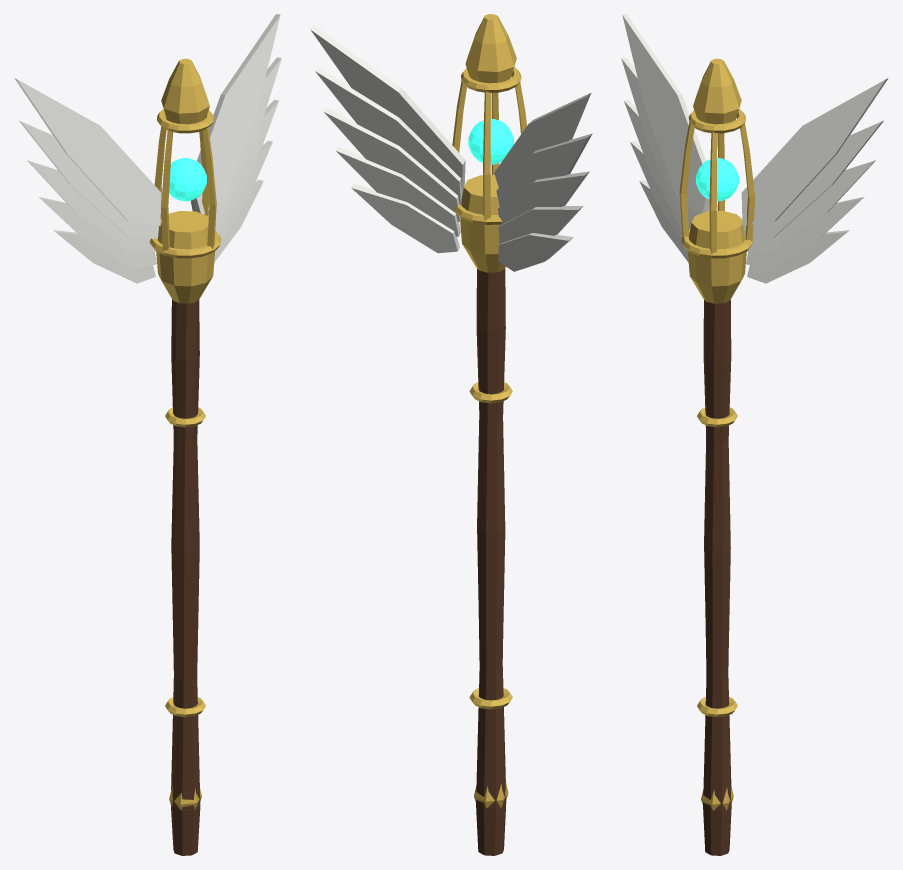
The model's file is staff_wingedmace.glb.
The picture shows the model from 3 angles, left to right: view 1: azimuth 30°, elevation 25°; view 2: azimuth 150°, elevation 25°; view 3: azimuth 330°, elevation 25°; orthographic projection. The views are drawn at different scales.
Visible parts, largest first — view 1: Wm_Shaft, Wm_Wing0_0, Wm_Wing1_0, Wm_Neck, Wm_Wing0_1, Wm_Crown, Wm_Wing0_2, Wm_Wing0_3, Wm_Wing1_1, Wm_Wing0_4, Wm_Gem, Wm_Wing1_2 (+6 smaller); view 2: Wm_Shaft, Wm_Wing1_0, Wm_Wing1_1, Wm_Wing1_2, Wm_Wing0_0, Wm_Wing1_3, Wm_Neck, Wm_Wing1_4, Wm_Crown, Wm_Wing0_1, Wm_Wing0_2, Wm_Wing0_4 (+4 smaller); view 3: Wm_Shaft, Wm_Wing1_0, Wm_Wing0_0, Wm_Neck, Wm_Wing1_1, Wm_Crown, Wm_Wing1_2, Wm_Wing1_3, Wm_Wing0_1, Wm_Wing1_4, Wm_Gem, Wm_Wing0_2 (+7 smaller).
Boxes of the visible parts, bbox=[...] form: Wm_Shaft: bbox=[171, 299, 200, 855]; Wm_Wing0_0: bbox=[14, 78, 161, 226]; Wm_Wing1_0: bbox=[193, 14, 280, 214]; Wm_Neck: bbox=[156, 211, 215, 303]; Wm_Wing0_1: bbox=[19, 120, 158, 238]; Wm_Crown: bbox=[161, 58, 209, 124]; Wm_Wing0_2: bbox=[27, 160, 155, 253]; Wm_Wing0_3: bbox=[39, 197, 156, 268]; Wm_Wing1_1: bbox=[191, 57, 281, 219]; Wm_Wing0_4: bbox=[53, 230, 155, 283]; Wm_Gem: bbox=[169, 158, 206, 201]; Wm_Wing1_2: bbox=[215, 99, 278, 233]; Wm_Shaft: bbox=[476, 268, 506, 855]; Wm_Wing1_0: bbox=[310, 25, 465, 190]; Wm_Wing1_1: bbox=[315, 66, 462, 204]; Wm_Wing1_2: bbox=[323, 107, 460, 221]; Wm_Wing0_0: bbox=[494, 93, 591, 187]; Wm_Wing1_3: bbox=[335, 146, 460, 236]; Wm_Neck: bbox=[460, 174, 505, 272]; Wm_Wing1_4: bbox=[351, 183, 459, 253]; Wm_Crown: bbox=[465, 14, 516, 83]; Wm_Wing0_1: bbox=[496, 133, 592, 206]; Wm_Wing0_2: bbox=[498, 171, 589, 225]; Wm_Wing0_4: bbox=[498, 233, 573, 271]; Wm_Shaft: bbox=[703, 299, 731, 855]; Wm_Wing1_0: bbox=[741, 78, 888, 226]; Wm_Wing0_0: bbox=[622, 14, 709, 214]; Wm_Neck: bbox=[687, 211, 746, 303]; Wm_Wing1_1: bbox=[744, 120, 883, 238]; Wm_Crown: bbox=[693, 58, 741, 124]; Wm_Wing1_2: bbox=[747, 160, 875, 253]; Wm_Wing1_3: bbox=[746, 197, 863, 268]; Wm_Wing0_1: bbox=[621, 57, 709, 221]; Wm_Wing1_4: bbox=[747, 230, 849, 283]; Wm_Gem: bbox=[696, 158, 738, 201]; Wm_Wing0_2: bbox=[624, 99, 691, 229].
Bounding box in the file's own units: 0.7243 × 2.07 × 0.2783.
